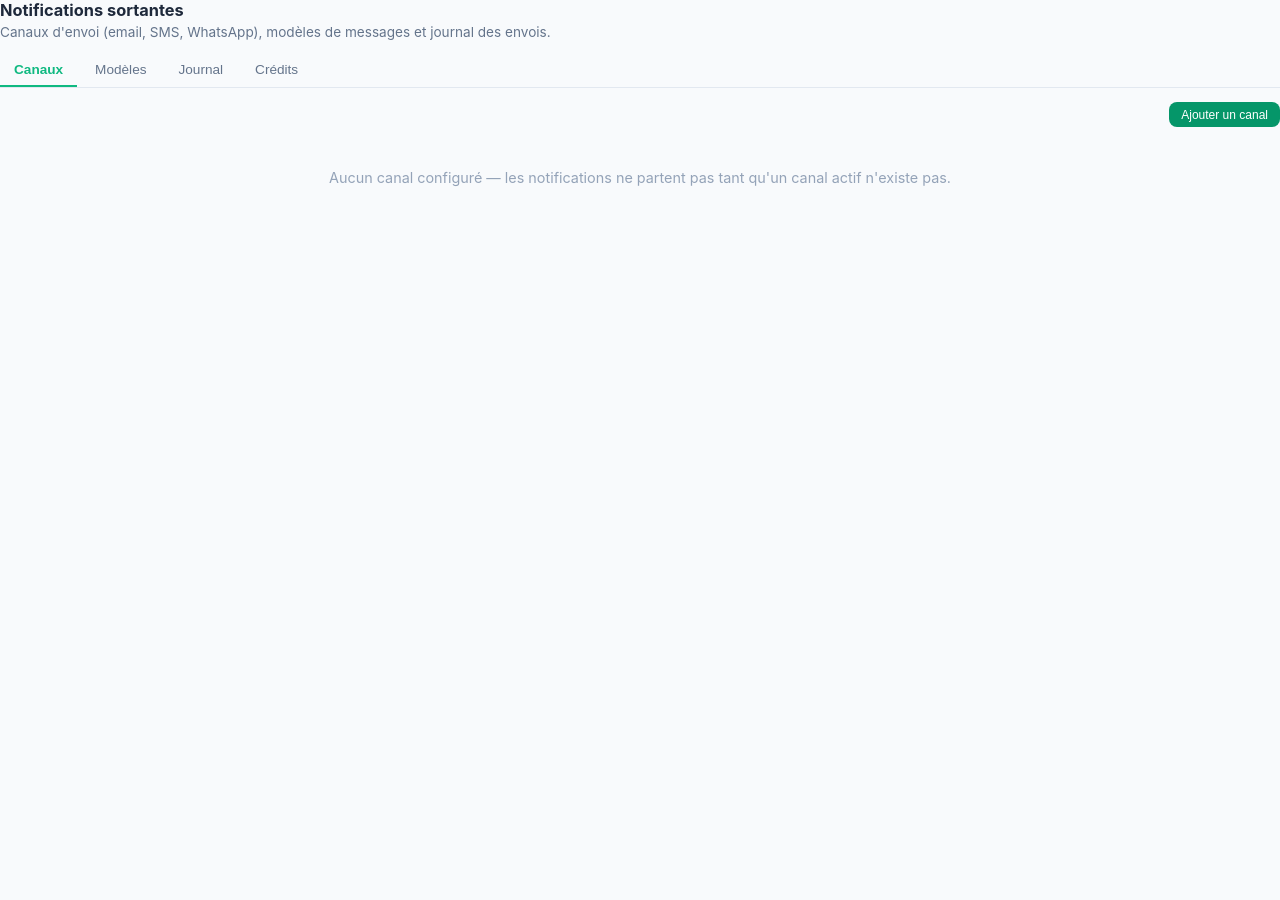
it: NotificationSettingsPanel — credits (RC-7E) › creates a mobile money order and shows the payable reference
Click the button with class "ntf-tab" showing "Crédits".
click(277, 70)  # box left=241, top=54, right=312, bottom=87
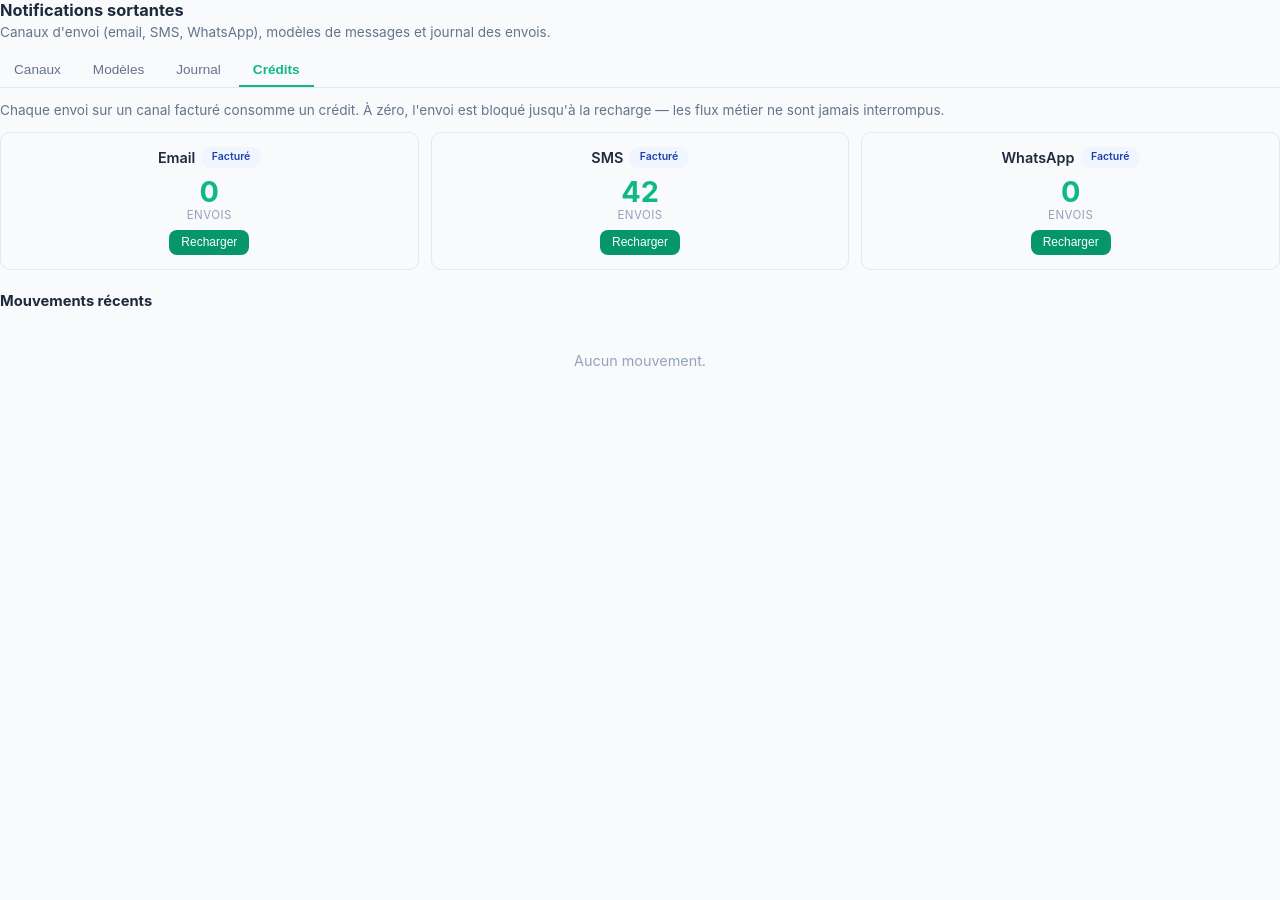
Click the button "Recharger" below "42".
click(640, 242)  # box left=600, top=230, right=680, bottom=255
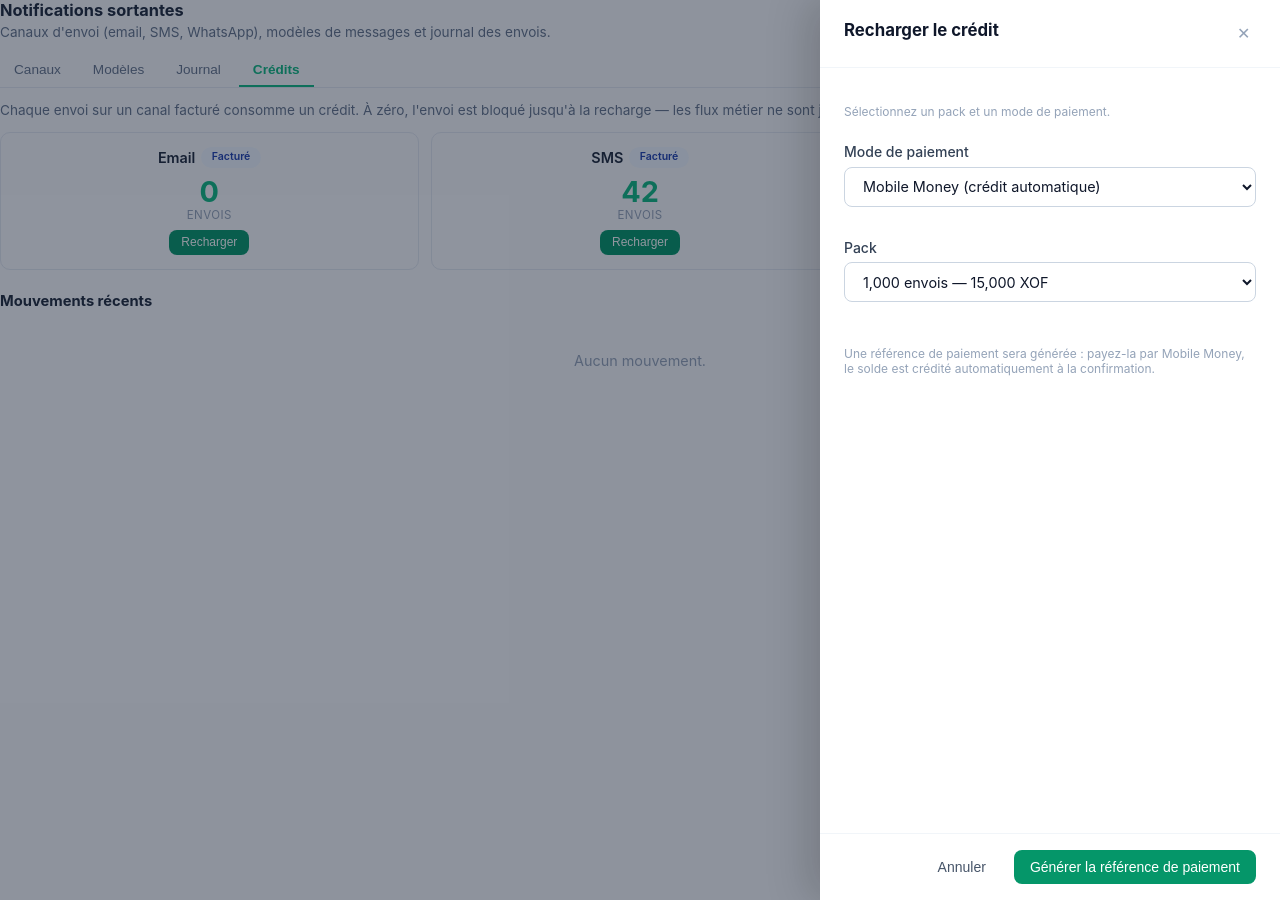
Click the button "Générer la référence de paiement".
click(1135, 867)  # box left=1014, top=850, right=1256, bottom=884
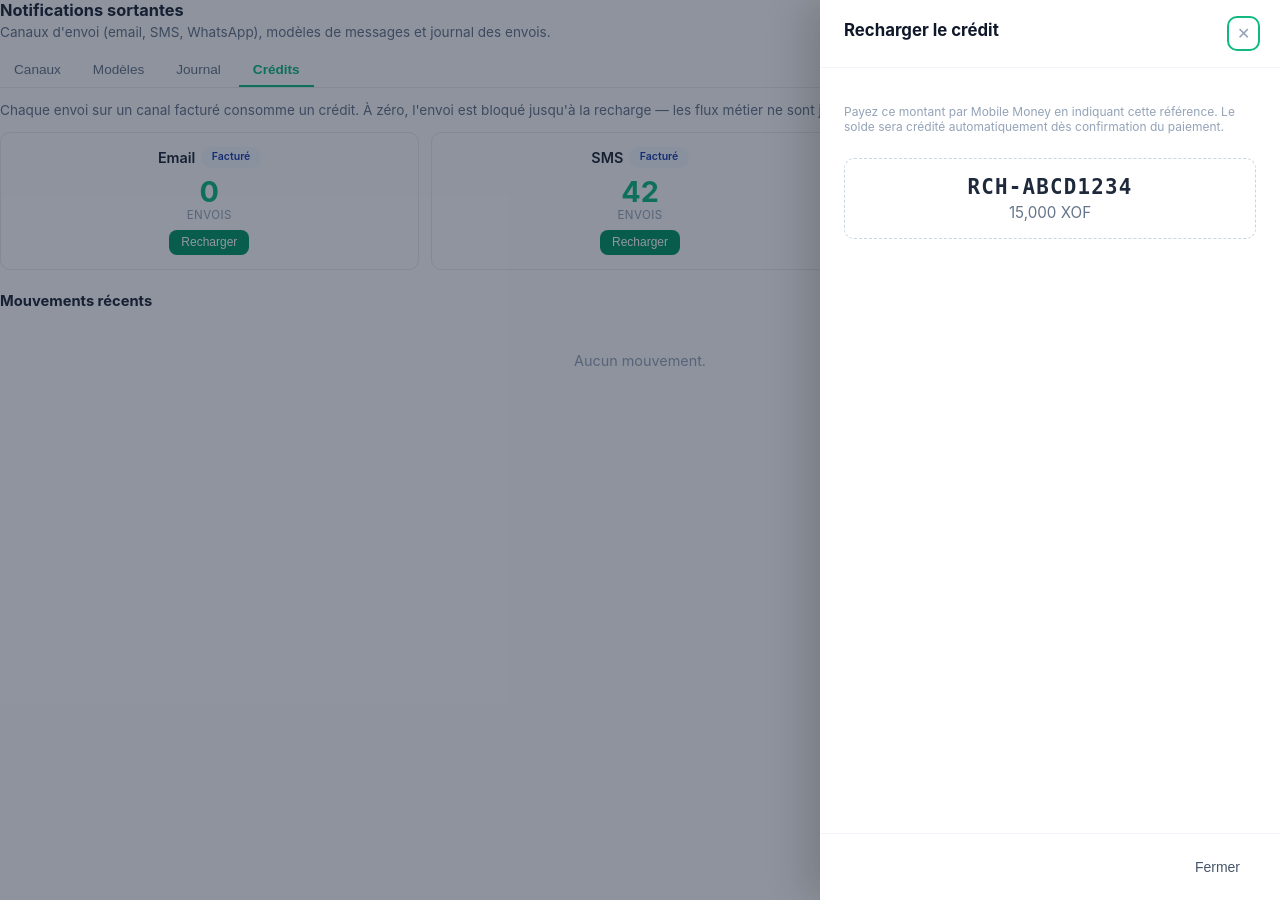
Expected: the text "RCH-ABCD1234" is shown, left=967, top=175, right=1133, bottom=199
